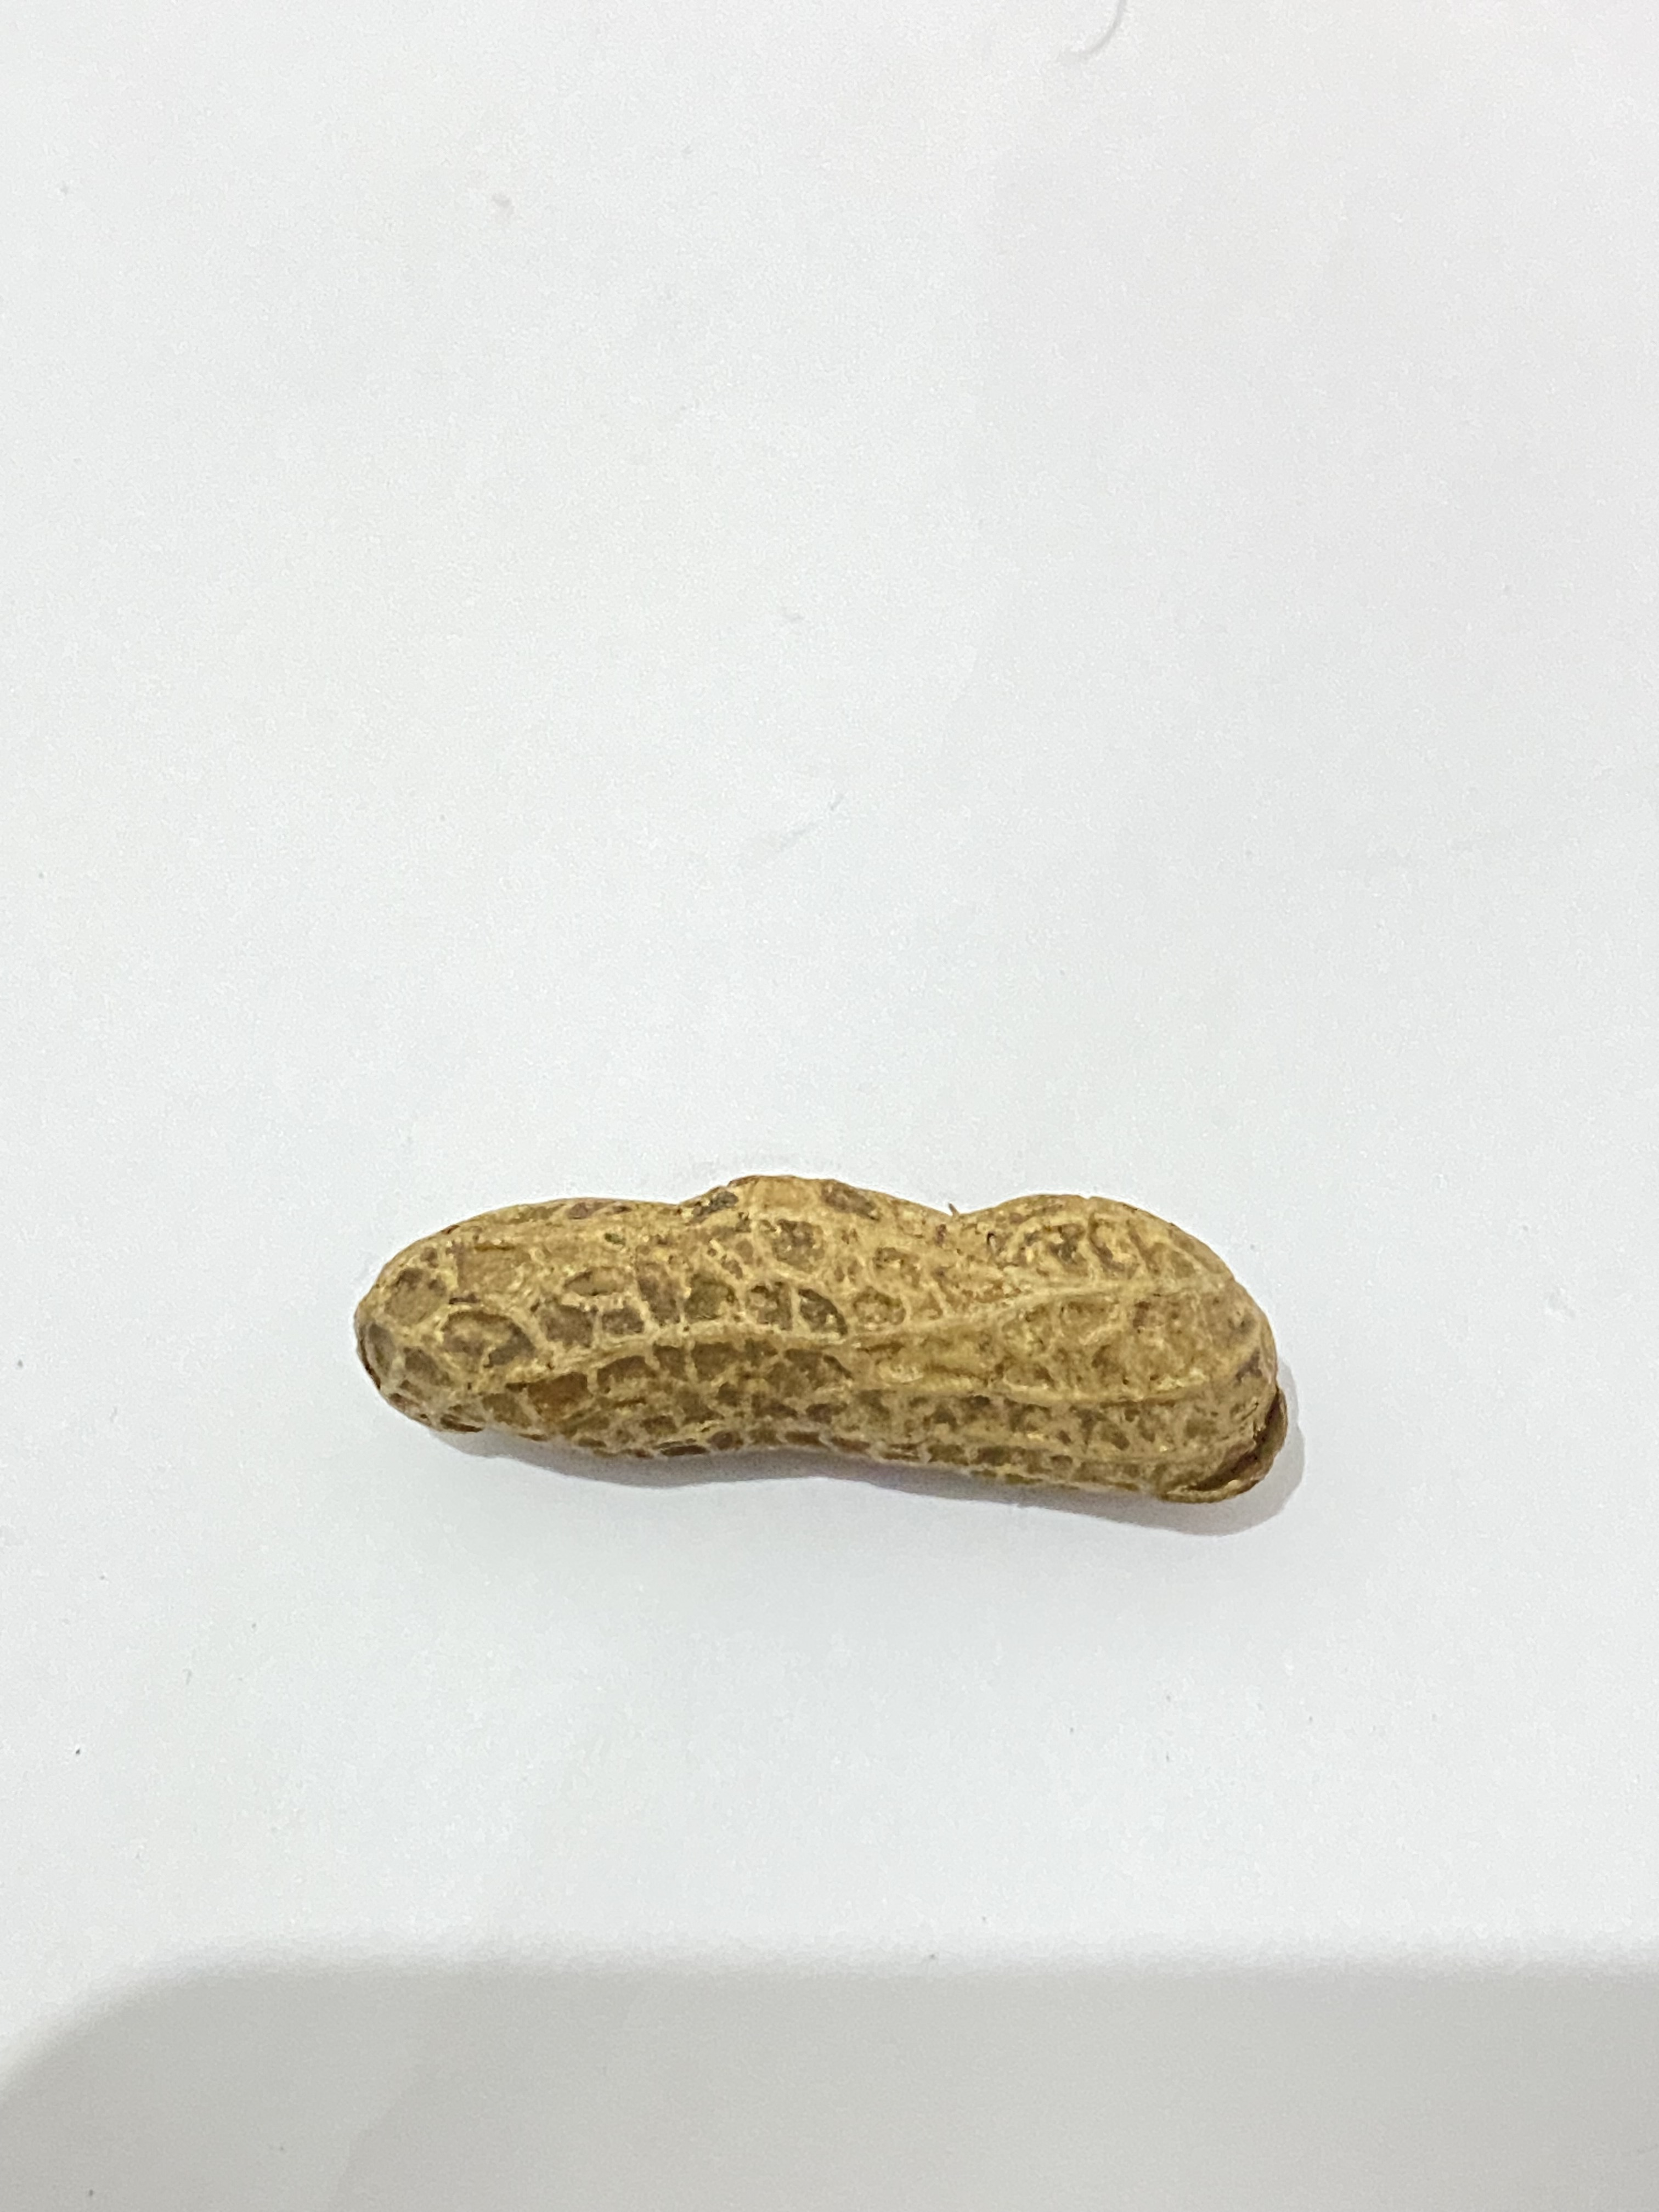kacang3: (286, 1049, 1349, 1573)
